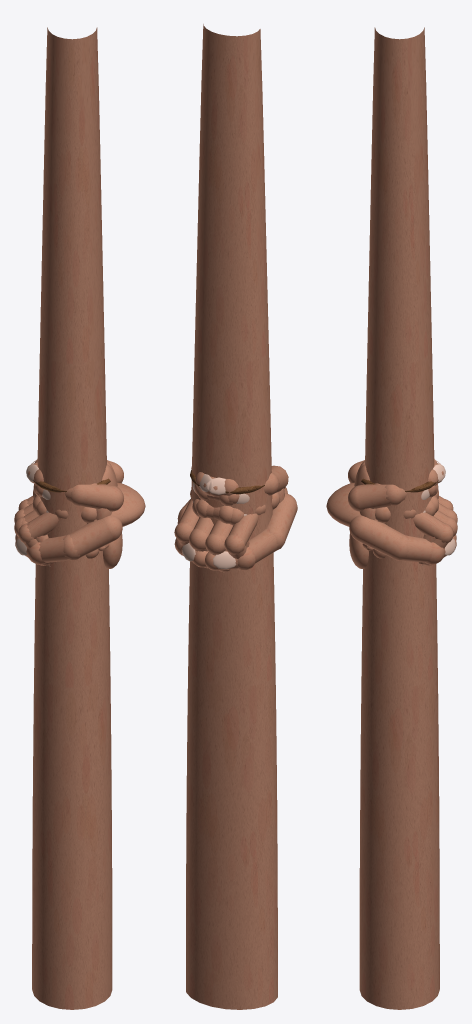
Rendered from original_hands.glb.
The picture shows the model from 3 angles, left to right: view 1: azimuth 90°, elevation 25°; view 2: azimuth 150°, elevation 25°; view 3: azimuth 270°, elevation 25°; orthographic projection.
Visible parts, largest first — view 1: AntebrazoDerecho, PunoDerecho, ManoAgarreDerecha, PunoIzquierdo, ManoAgarreIzquierda; view 2: AntebrazoDerecho, PunoDerecho, PunoIzquierdo, ManoAgarreDerecha, ManoAgarreIzquierda; view 3: AntebrazoDerecho, PunoIzquierdo, ManoAgarreIzquierda, PunoDerecho, ManoAgarreDerecha.
Part boxes in pixels (x1=…): AntebrazoDerecho: x1=32, y1=27, x2=112, y2=1009; PunoDerecho: x1=14, y1=483, x2=145, y2=566; ManoAgarreDerecha: x1=26, y1=463, x2=123, y2=568; PunoIzquierdo: x1=14, y1=482, x2=144, y2=542; ManoAgarreIzquierda: x1=26, y1=459, x2=123, y2=558; AntebrazoDerecho: x1=186, y1=24, x2=277, y2=1009; PunoDerecho: x1=182, y1=493, x2=297, y2=572; PunoIzquierdo: x1=174, y1=487, x2=287, y2=568; ManoAgarreDerecha: x1=194, y1=465, x2=288, y2=525; ManoAgarreIzquierda: x1=191, y1=466, x2=280, y2=523; AntebrazoDerecho: x1=359, y1=27, x2=439, y2=1009; PunoIzquierdo: x1=326, y1=483, x2=457, y2=566; ManoAgarreIzquierda: x1=348, y1=463, x2=445, y2=568; PunoDerecho: x1=327, y1=482, x2=457, y2=542; ManoAgarreDerecha: x1=348, y1=459, x2=445, y2=558.
Bounding box in the file's own units: 0.1136 × 1 × 0.1235.
Materials: 3 (2 with a texture image).
